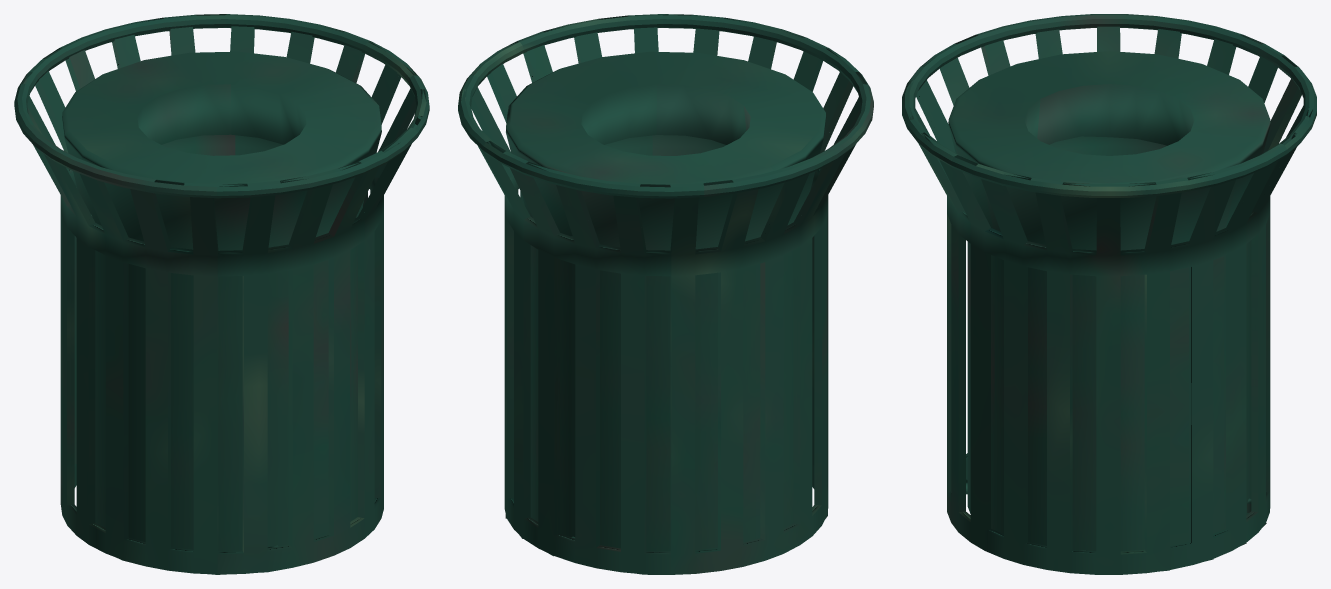
Rendered from tj_trash_large.fbx.
3 renders of one model, left to right at view 1: azimuth 30°, elevation 25°; view 2: azimuth 150°, elevation 25°; view 3: azimuth 270°, elevation 25°, orthographic.
Parts seen in each view (by area): view 1: tj_trash_large_LOD0; view 2: tj_trash_large_LOD0; view 3: tj_trash_large_LOD0.
Part boxes in pixels (<box>): tj_trash_large_LOD0: <box>14,14,429,574</box>; tj_trash_large_LOD0: <box>458,14,873,574</box>; tj_trash_large_LOD0: <box>902,14,1316,574</box>.
Size of what is drawn, in the model's own units: 0.8925 by 0.9664 by 0.8925.
Materials: 1 (1 with a texture image).
